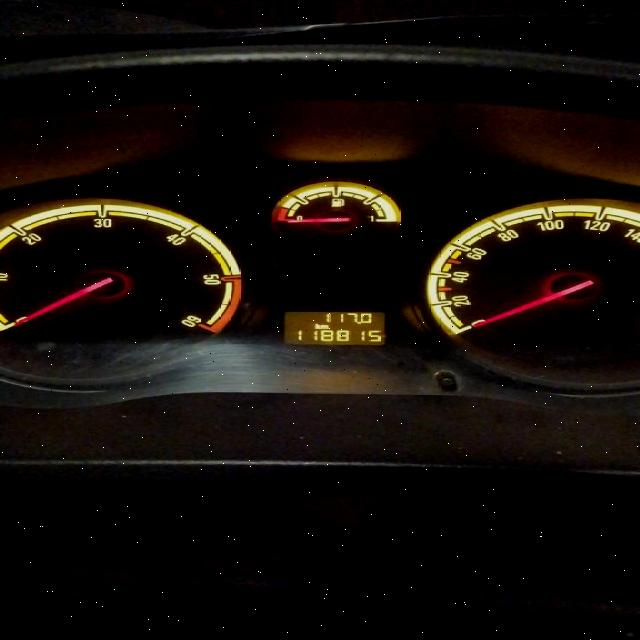odometer: (279, 309, 390, 347)
